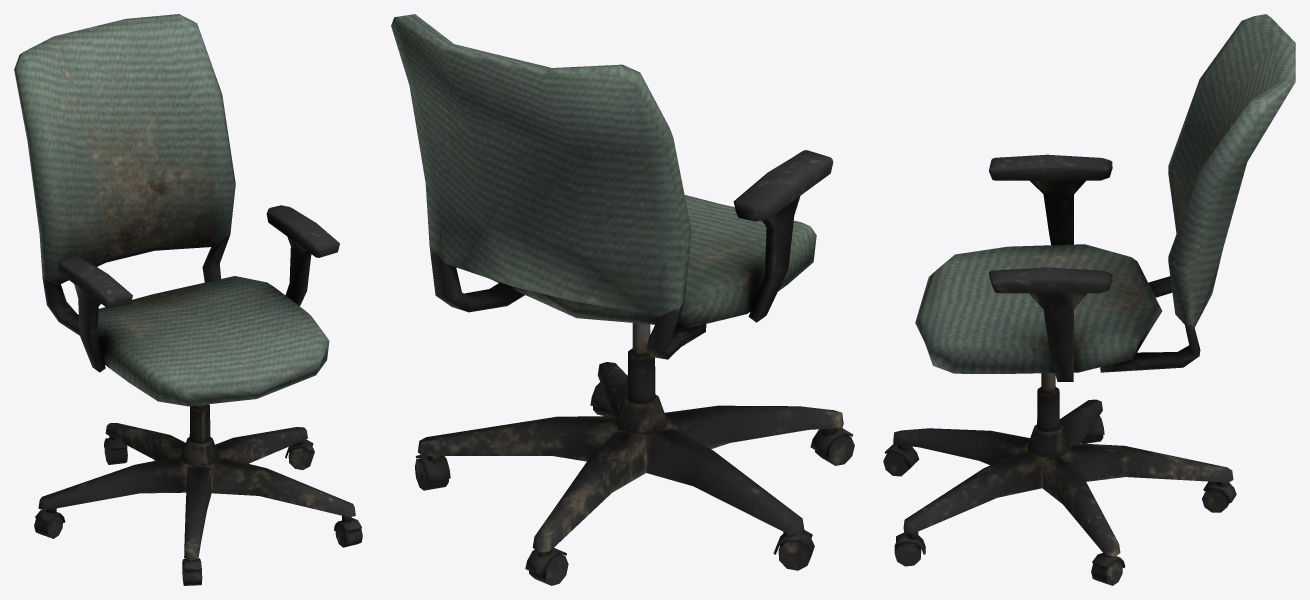
Rendered from ComputerChair.FBX.
3 views of the same model, side by side, from view 1: azimuth 30°, elevation 25°; view 2: azimuth 150°, elevation 25°; view 3: azimuth 270°, elevation 25° (orthographic). The views are drawn at different scales.
Visible parts, largest first — view 1: ComputerChair; view 2: ComputerChair; view 3: ComputerChair.
Part boxes in pixels (x1,y1,x2,y2): ComputerChair: (14,14,362,585); ComputerChair: (391,14,854,585); ComputerChair: (883,14,1295,585).
Size of the model in its own units: 97.07 by 134 by 109.
